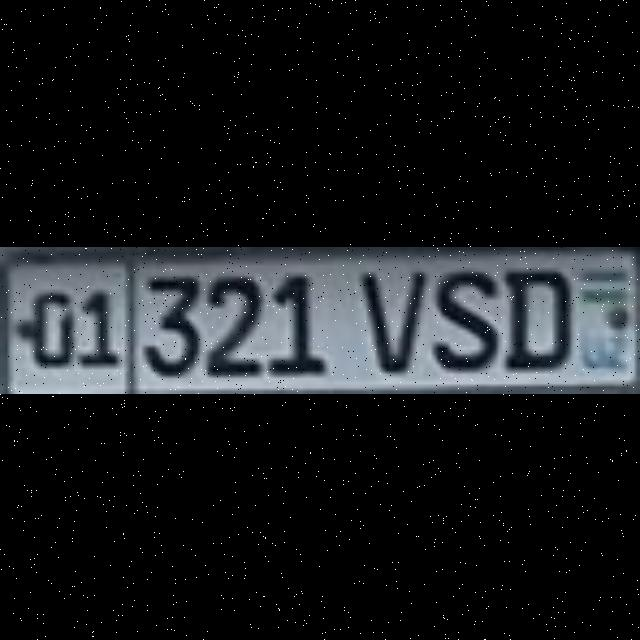0: (26, 285, 64, 359)
1: (264, 268, 320, 366), (70, 281, 112, 359)
2: (199, 268, 255, 366)
3: (138, 268, 194, 366)
D: (498, 264, 566, 362)
S: (354, 263, 424, 367), (428, 264, 494, 362)
